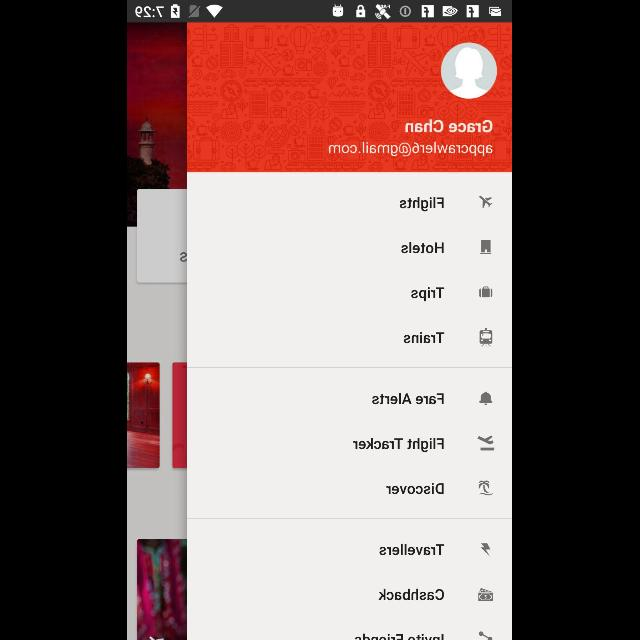icon: (442, 42, 498, 100), (480, 391, 492, 405), (479, 286, 493, 298), (481, 240, 492, 254)
image: (479, 480, 495, 496), (478, 436, 496, 450), (481, 328, 494, 347), (478, 588, 494, 602), (480, 196, 492, 208), (481, 544, 491, 556), (479, 632, 493, 640)
panel: (188, 22, 512, 640)
text: (330, 141, 494, 157), (406, 118, 494, 134), (354, 438, 444, 452), (372, 393, 444, 405), (379, 544, 445, 556), (379, 588, 445, 600), (400, 196, 444, 212), (356, 632, 444, 640), (387, 483, 445, 495), (411, 286, 445, 302), (402, 242, 444, 254), (404, 332, 446, 344)
uppertaskbar: (128, 1, 512, 23)
